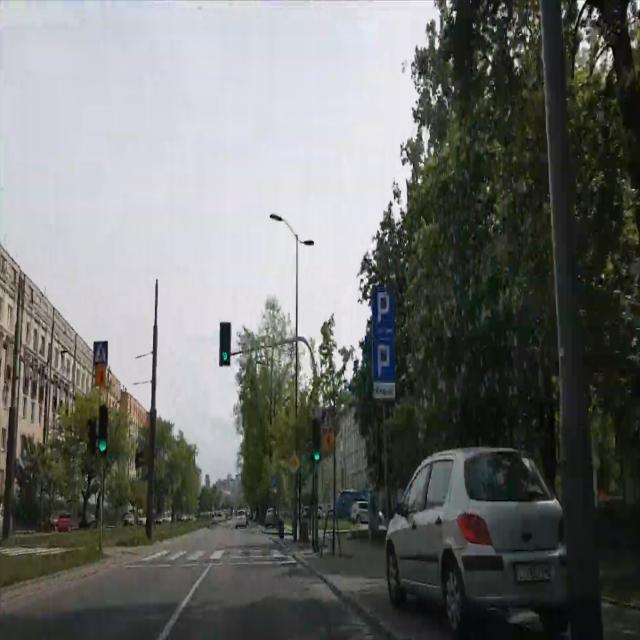Przejscie dla pieszych: (94, 340, 108, 363), (323, 408, 333, 428)
